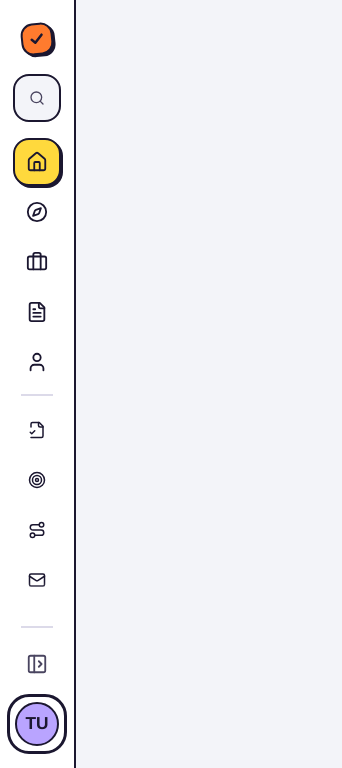
Test: AppSidebar › in the rail, leaves focus to the new page when an item of the account menu is chosen
The image size is (342, 768).
Press Enter in the button with aria-label "Account menu for Test User", box [13,700,61,748]
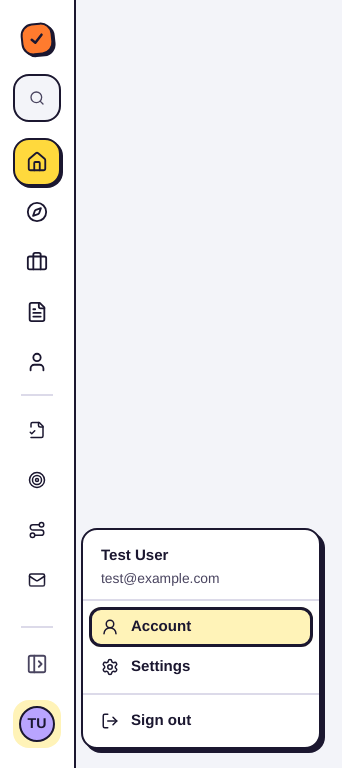
Click the menu item "Account". click: {"x": 201, "y": 626}
box: [89,606,313,646]
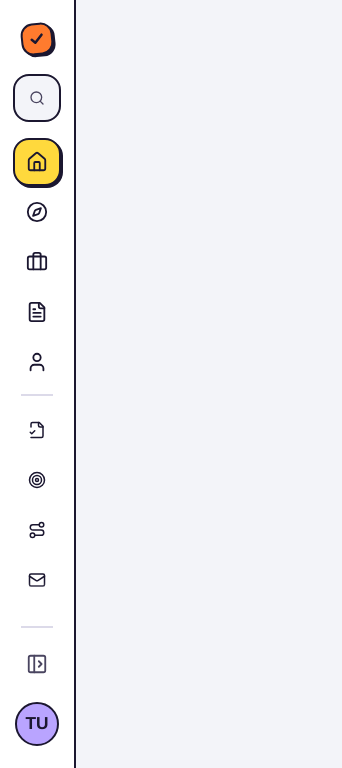
Check: the menu is gone
